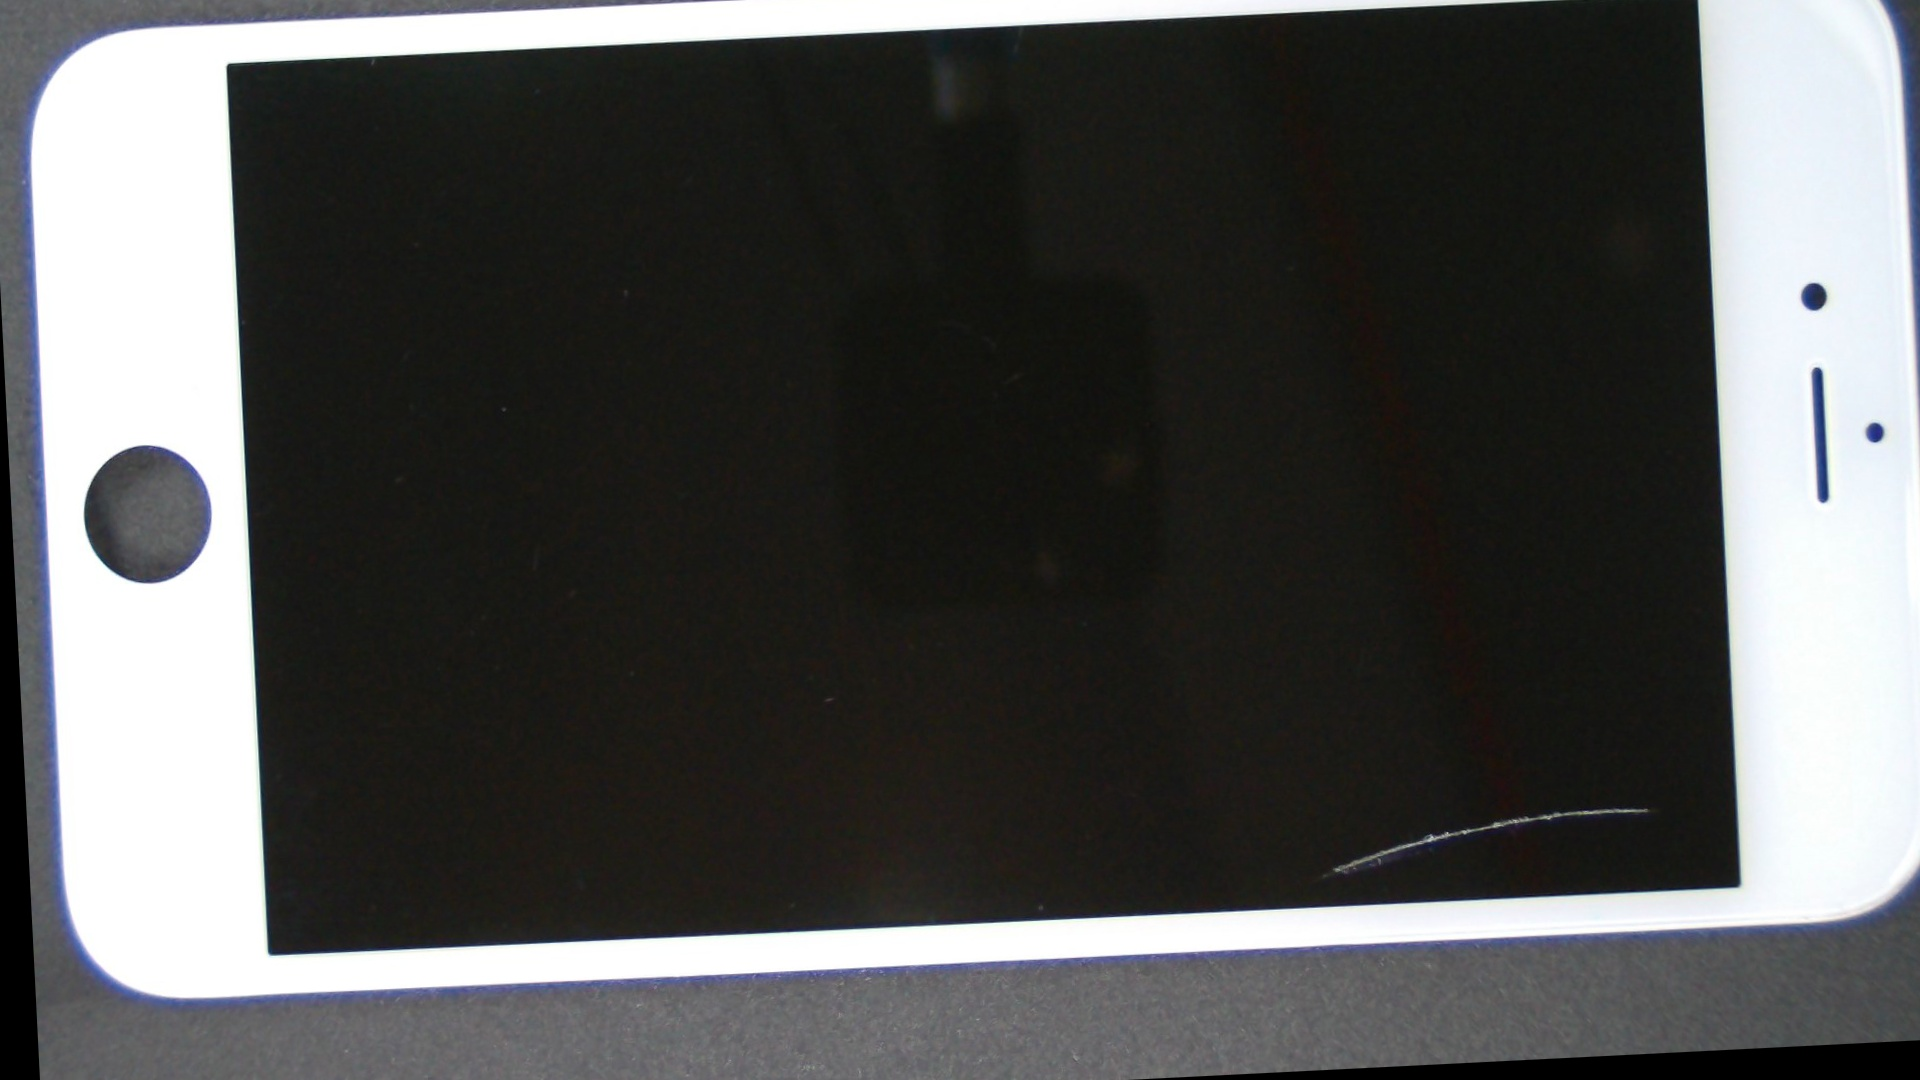oil: (783, 330, 1920, 1080)
